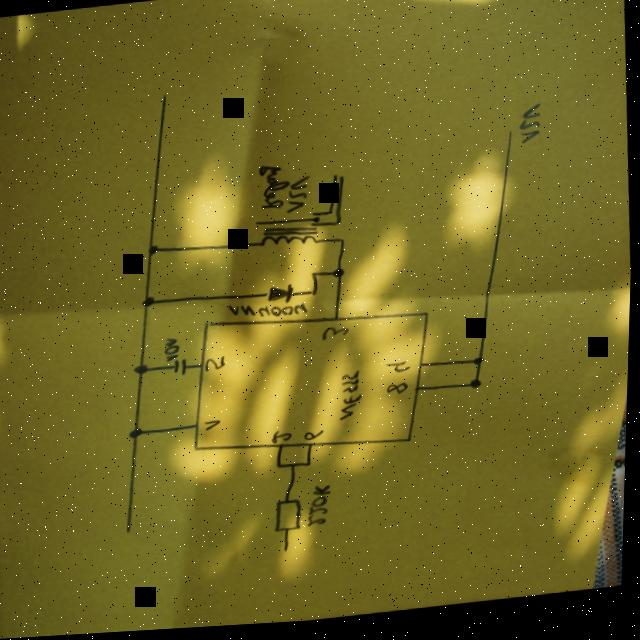capacitor: (174, 360, 192, 379)
diode: (267, 285, 299, 309)
junction: (134, 363, 153, 378), (143, 296, 160, 310), (131, 428, 148, 441), (471, 383, 487, 396), (334, 271, 349, 284), (148, 245, 162, 258), (475, 361, 488, 372), (311, 292, 321, 301), (312, 274, 322, 282), (335, 223, 345, 230), (293, 465, 301, 472), (340, 241, 348, 248), (279, 466, 288, 472), (309, 465, 316, 471), (329, 214, 336, 220)
resistor: (276, 500, 309, 537)
terminal: (160, 92, 171, 103), (507, 133, 517, 142), (285, 550, 294, 557), (255, 222, 263, 229), (129, 529, 137, 536), (335, 176, 341, 182), (341, 179, 347, 184)
text: (229, 300, 313, 325), (259, 165, 293, 214), (339, 373, 368, 425), (308, 486, 338, 531), (518, 108, 545, 151), (287, 178, 314, 217), (322, 328, 353, 346), (165, 338, 185, 364), (387, 364, 416, 379), (207, 357, 230, 374), (273, 432, 297, 448), (388, 386, 414, 400), (306, 432, 330, 444), (206, 422, 225, 434)
